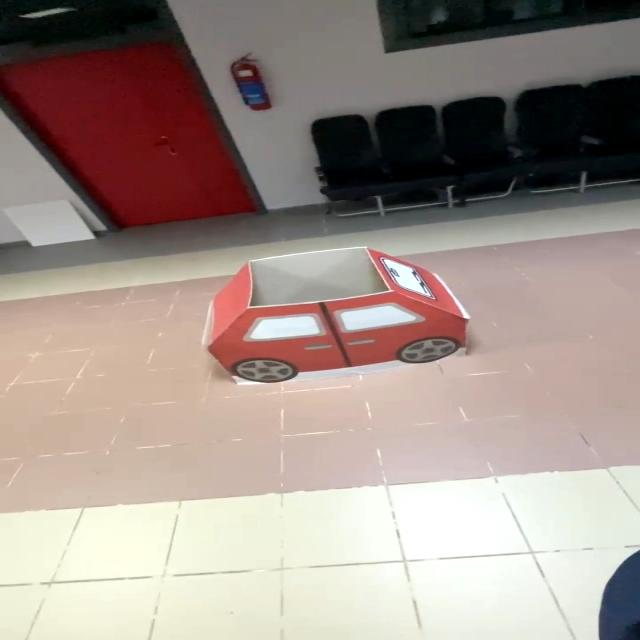red_car: (180, 237, 488, 412)
